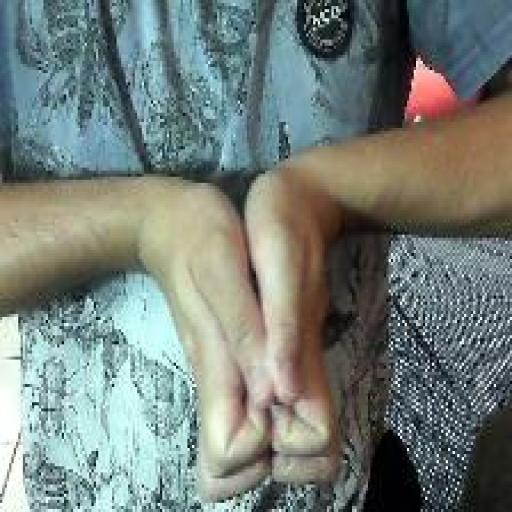I -boar-: (155, 160, 343, 507)
